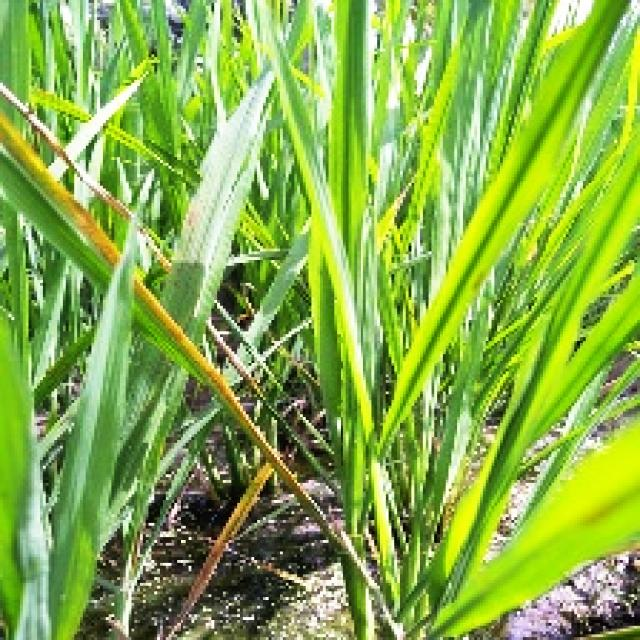unhealth: (0, 73, 375, 602)
